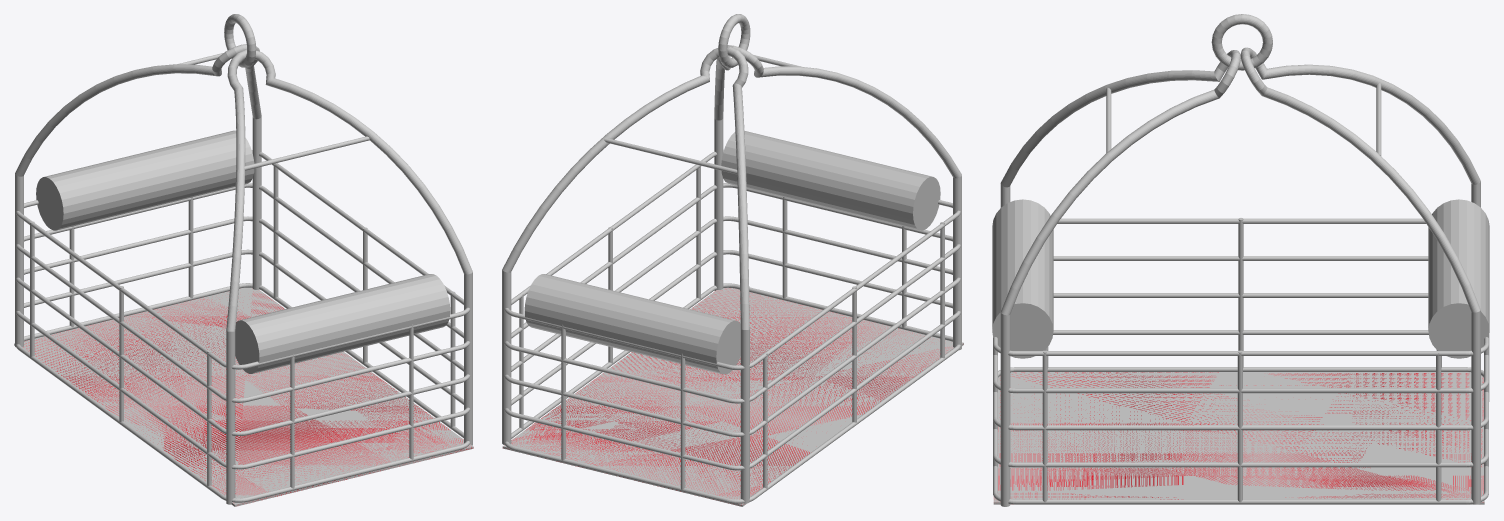
3 renders of one model, left to right at view 1: azimuth 30°, elevation 25°; view 2: azimuth 150°, elevation 25°; view 3: azimuth 270°, elevation 25°, orthographic. The views are drawn at different scales.
Visible parts, largest first — view 1: mesh6_mesh6-geometry, mesh38_mesh38-geometry, mesh37_mesh37-geometry, mesh39_mesh39-geometry, mesh46_mesh46-geometry, mesh3_mesh3-geometry, mesh2_mesh2-geometry, mesh1_mesh1-geometry, mesh4_mesh4-geometry, mesh5_mesh5-geometry, mesh59_mesh59-geometry, mesh25_mesh25-geometry (+8 smaller); view 2: mesh6_mesh6-geometry, mesh38_mesh38-geometry, mesh37_mesh37-geometry, mesh46_mesh46-geometry, mesh39_mesh39-geometry, mesh3_mesh3-geometry, mesh2_mesh2-geometry, mesh1_mesh1-geometry, mesh4_mesh4-geometry, mesh5_mesh5-geometry, mesh59_mesh59-geometry, mesh31_mesh31-geometry (+8 smaller); view 3: mesh6_mesh6-geometry, mesh39_mesh39-geometry, mesh46_mesh46-geometry, mesh37_mesh37-geometry, mesh38_mesh38-geometry, mesh1_mesh1-geometry, mesh2_mesh2-geometry, mesh3_mesh3-geometry, mesh4_mesh4-geometry, mesh5_mesh5-geometry, mesh59_mesh59-geometry, mesh28_mesh28-geometry (+3 smaller).
Boxes of the visible parts, x1,y1,x2,y2 form: mesh6_mesh6-geometry: [14, 287, 473, 506]; mesh38_mesh38-geometry: [36, 130, 254, 230]; mesh37_mesh37-geometry: [235, 274, 450, 373]; mesh39_mesh39-geometry: [226, 49, 472, 504]; mesh46_mesh46-geometry: [15, 44, 261, 347]; mesh3_mesh3-geometry: [16, 216, 470, 436]; mesh2_mesh2-geometry: [16, 249, 470, 469]; mesh1_mesh1-geometry: [16, 283, 470, 502]; mesh4_mesh4-geometry: [16, 183, 470, 402]; mesh5_mesh5-geometry: [16, 150, 470, 369]; mesh59_mesh59-geometry: [224, 14, 256, 67]; mesh25_mesh25-geometry: [273, 164, 278, 298]; mesh6_mesh6-geometry: [502, 287, 963, 506]; mesh38_mesh38-geometry: [524, 274, 740, 374]; mesh37_mesh37-geometry: [721, 130, 940, 230]; mesh46_mesh46-geometry: [502, 46, 749, 503]; mesh39_mesh39-geometry: [714, 45, 961, 350]; mesh3_mesh3-geometry: [504, 216, 960, 436]; mesh2_mesh2-geometry: [504, 250, 960, 470]; mesh1_mesh1-geometry: [504, 283, 960, 503]; mesh4_mesh4-geometry: [504, 183, 960, 403]; mesh5_mesh5-geometry: [504, 149, 960, 369]; mesh59_mesh59-geometry: [718, 14, 750, 67]; mesh31_mesh31-geometry: [680, 353, 685, 489]; mesh6_mesh6-geometry: [993, 372, 1484, 504]; mesh39_mesh39-geometry: [1000, 50, 1240, 506]; mesh46_mesh46-geometry: [1240, 47, 1480, 504]; mesh37_mesh37-geometry: [992, 199, 1053, 358]; mesh38_mesh38-geometry: [1428, 199, 1489, 358]; mesh1_mesh1-geometry: [993, 367, 1488, 504]; mesh2_mesh2-geometry: [993, 330, 1488, 467]; mesh3_mesh3-geometry: [993, 293, 1488, 430]; mesh4_mesh4-geometry: [993, 256, 1488, 393]; mesh5_mesh5-geometry: [993, 218, 1488, 355]; mesh59_mesh59-geometry: [1211, 14, 1272, 70]; mesh28_mesh28-geometry: [1042, 350, 1047, 502].
Size of the model in its own units: 0.4222 by 0.621 by 0.6603.
